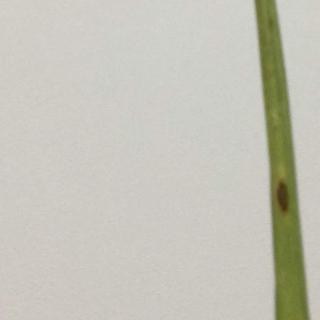Blast: (266, 157, 302, 240)
